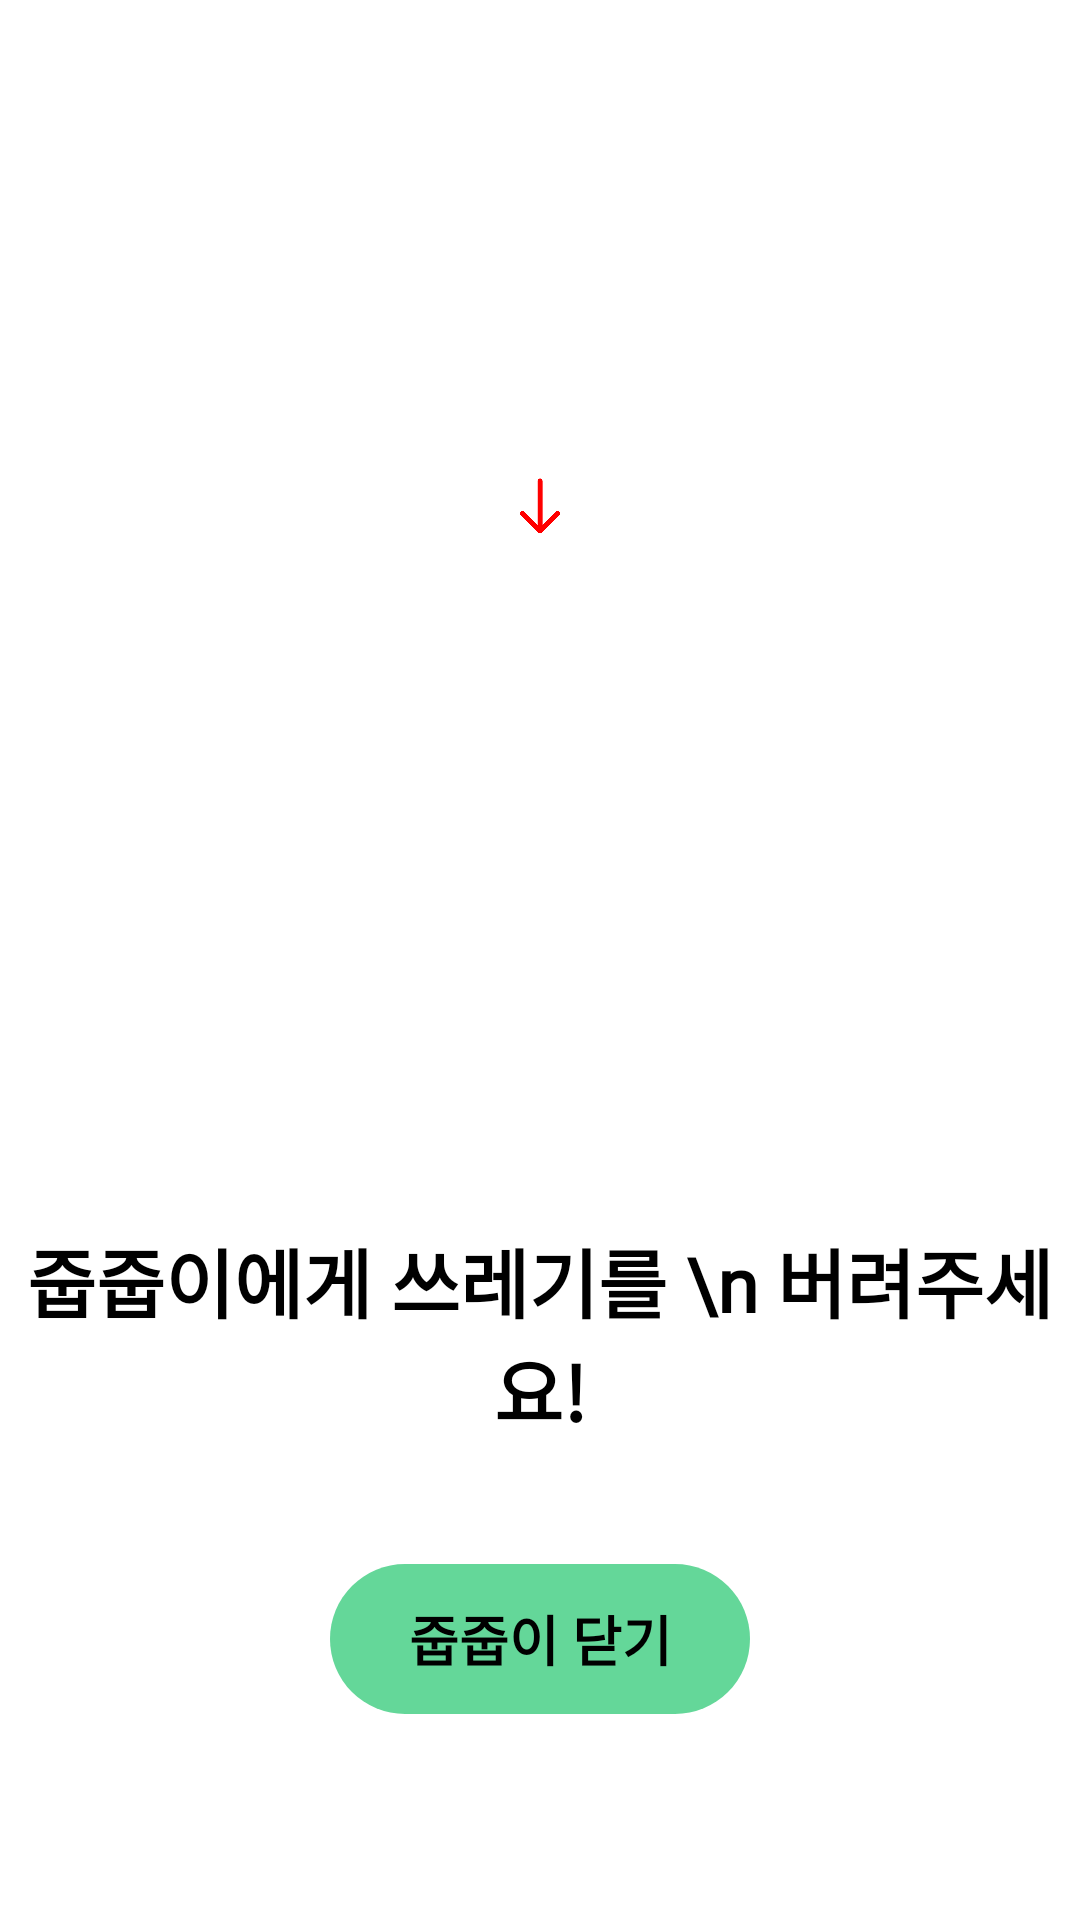

Screen size 1080px×1920px. Icon name, then its center in pixels as (x=x, y=y):
down: (x=540, y=505)
